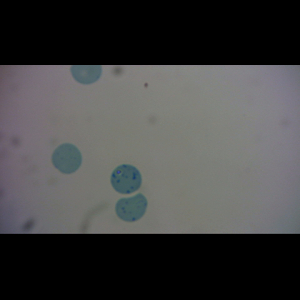aggregate reticulocyte: (109, 163, 144, 196)
punctate reticulocyte: (50, 142, 84, 175), (114, 192, 149, 223)
